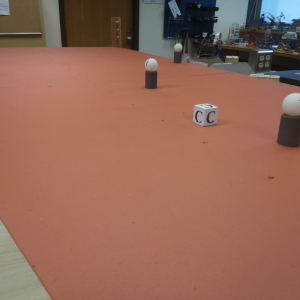blockC: (194, 102, 218, 127)
corner: (111, 17, 121, 46)
obstacle: (275, 92, 300, 150), (143, 59, 158, 88), (172, 43, 181, 62)
